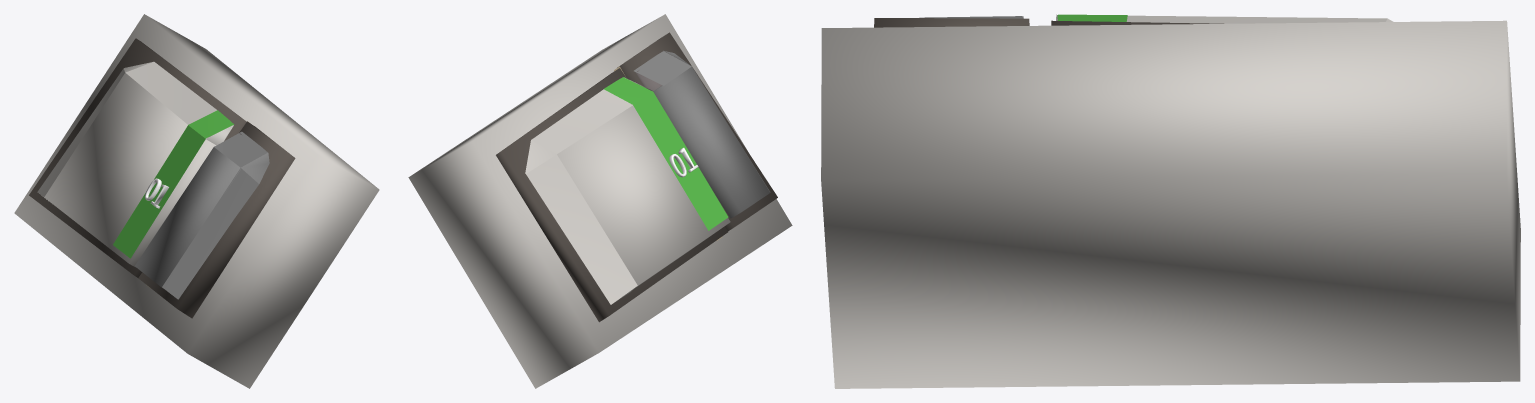
Rendered from Keycard Padlock L1 without indicator lights.fbx.
3 renders of one model, left to right at view 1: azimuth 30°, elevation 25°; view 2: azimuth 150°, elevation 25°; view 3: azimuth 270°, elevation 25°, orthographic. The views are drawn at different scales.
Parts seen in each view (by area): view 1: f3a2e261-b967-4d25-a90b-3143275a18bf; view 2: f3a2e261-b967-4d25-a90b-3143275a18bf; view 3: f3a2e261-b967-4d25-a90b-3143275a18bf.
Part boxes in pixels (bbox=[...]): f3a2e261-b967-4d25-a90b-3143275a18bf: bbox=[14, 14, 379, 388]; f3a2e261-b967-4d25-a90b-3143275a18bf: bbox=[408, 14, 792, 388]; f3a2e261-b967-4d25-a90b-3143275a18bf: bbox=[821, 14, 1520, 388].
Size of the model in its own units: 2379 by 2632 by 3845.
